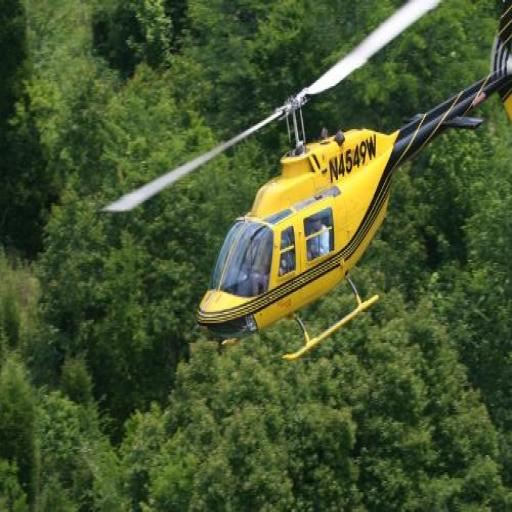helicopter: (96, 3, 509, 383)
